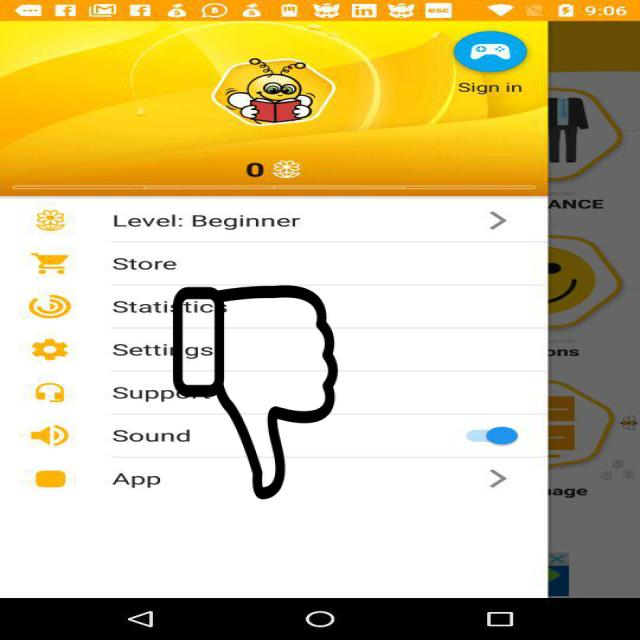obstruction: (171, 286, 340, 500)
